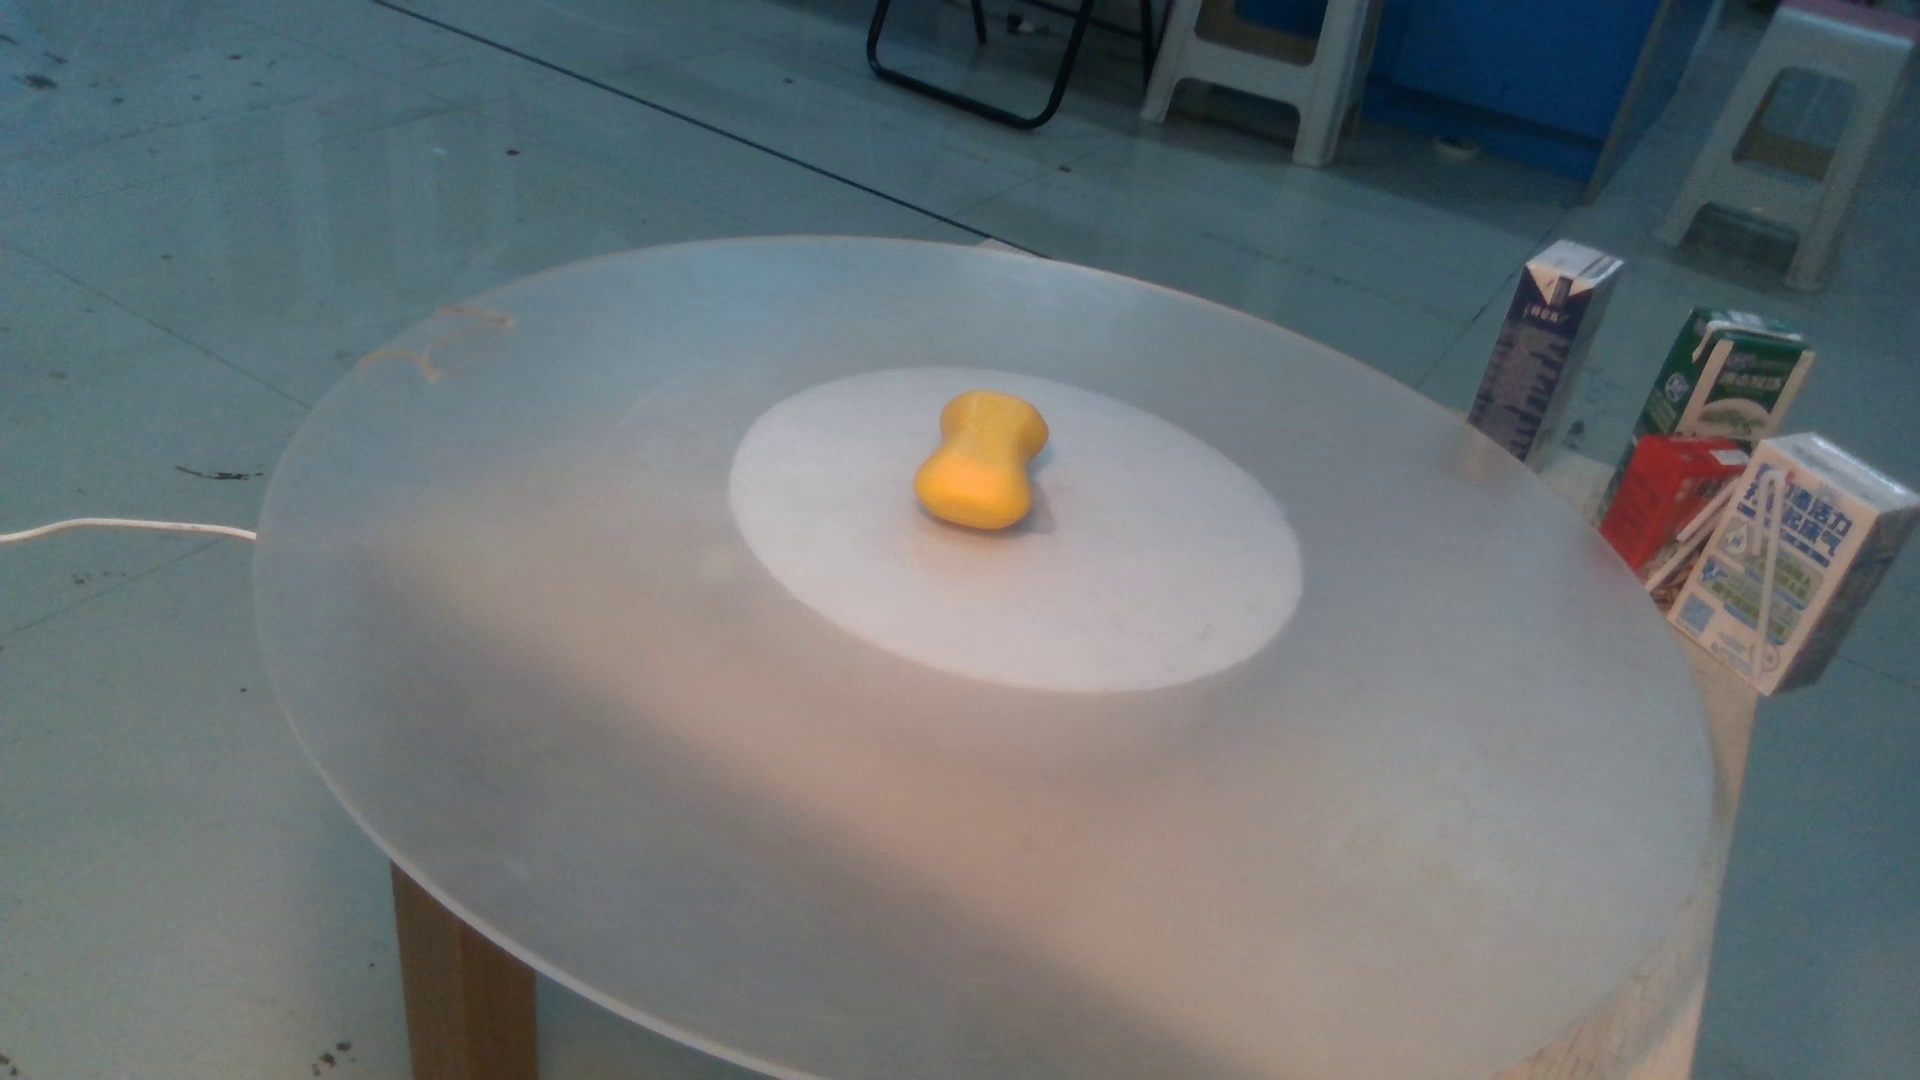CA003_1: (895, 377, 1110, 549)
